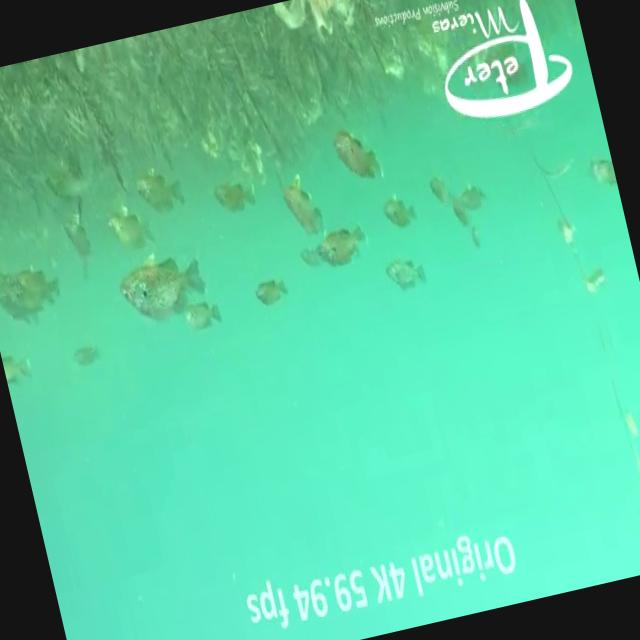Gunes Levregi: (111, 243, 212, 329), (324, 117, 381, 188), (314, 222, 370, 270)
